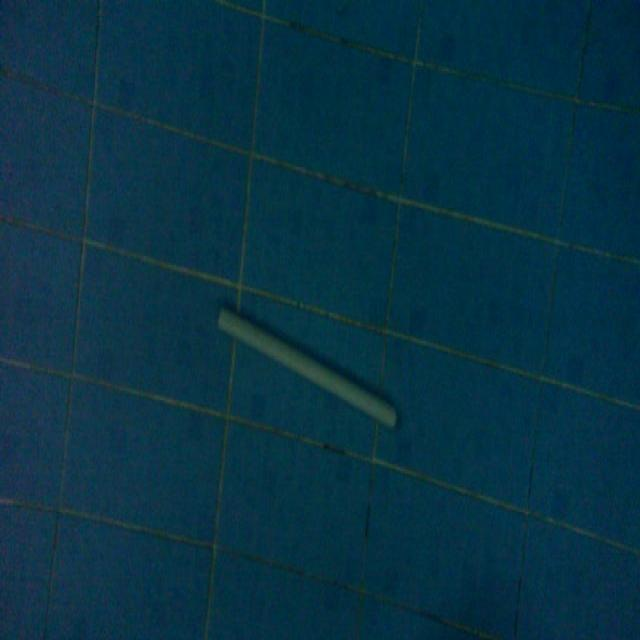Cube: (215, 298, 399, 434)
